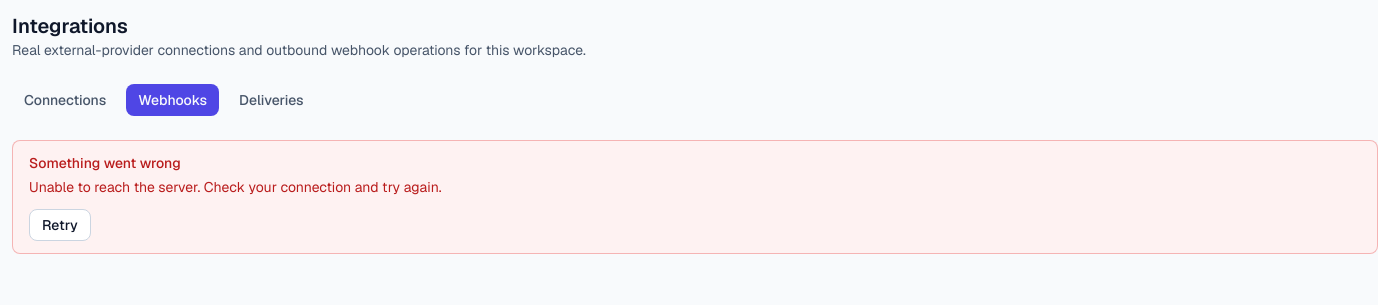
it: WebhookEndpointsTab (via IntegrationsListPage) › shows a network-error state (not empty) and recovers via Retry
expect the text "Something went wrong" is shown: met, box 29,154 -> 181,172
Click the button "Retry": (60, 225) 29,209 -> 91,241
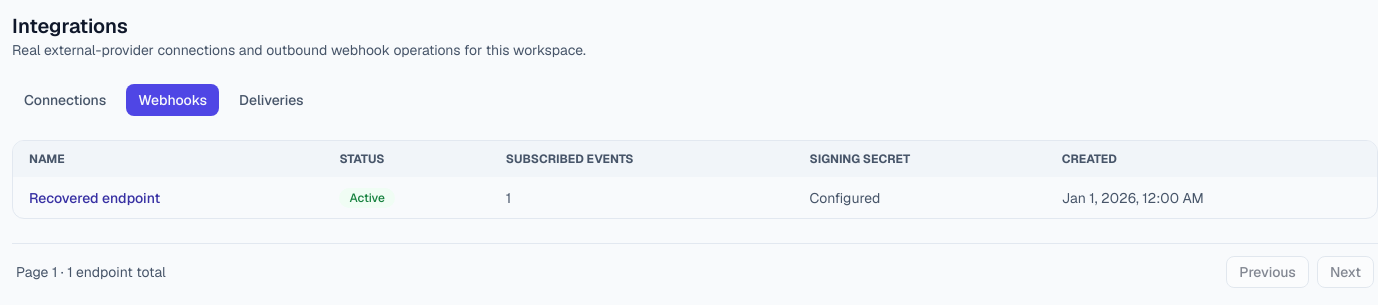
expect the link "Recovered endpoint" is shown: met, box 29,188 -> 160,206
